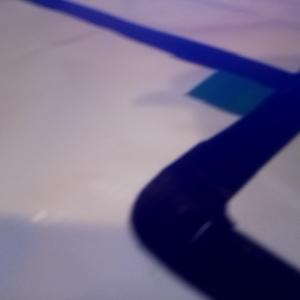top_left: (188, 71, 300, 116)
